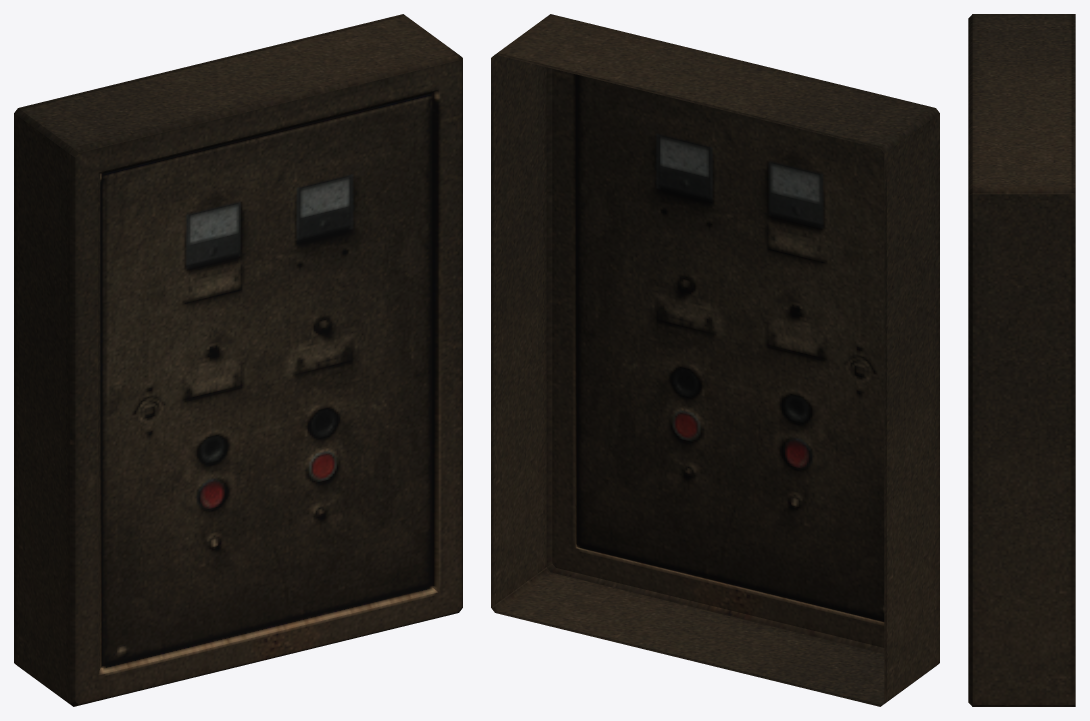
The model's file is wall_box_3.obj.
3 renders of one model, left to right at view 1: azimuth 30°, elevation 25°; view 2: azimuth 150°, elevation 25°; view 3: azimuth 270°, elevation 25°, orthographic. The views are drawn at different scales.
Parts seen in each view (by area): view 1: wall_box_3; view 2: wall_box_3; view 3: wall_box_3.
Part boxes in pixels (x1,y1,x2,y2): wall_box_3: [14, 14, 462, 706]; wall_box_3: [491, 14, 939, 706]; wall_box_3: [968, 14, 1075, 706].
Bounding box in the file's own units: 0.5892 × 0.7992 × 0.15.
